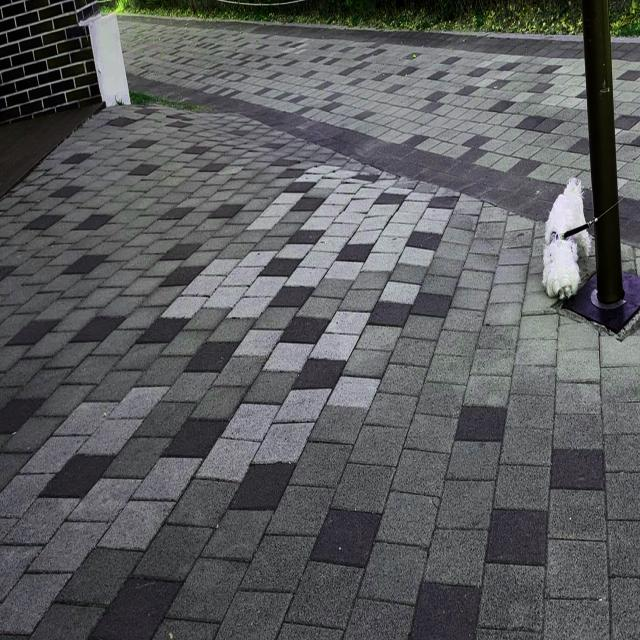Dog: (542, 174, 592, 303)
